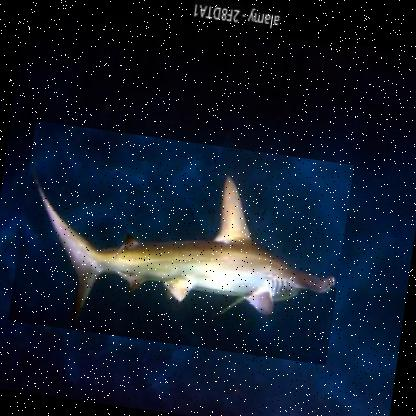hammerhead_Shark: (6, 119, 354, 365)
